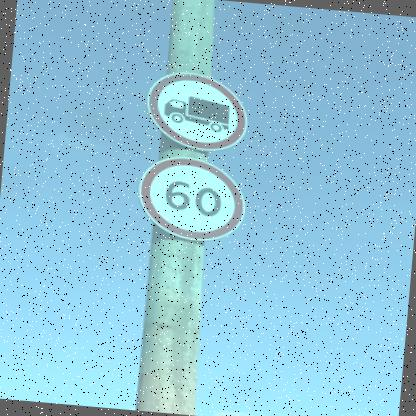speedlimit: (132, 152, 246, 243)
